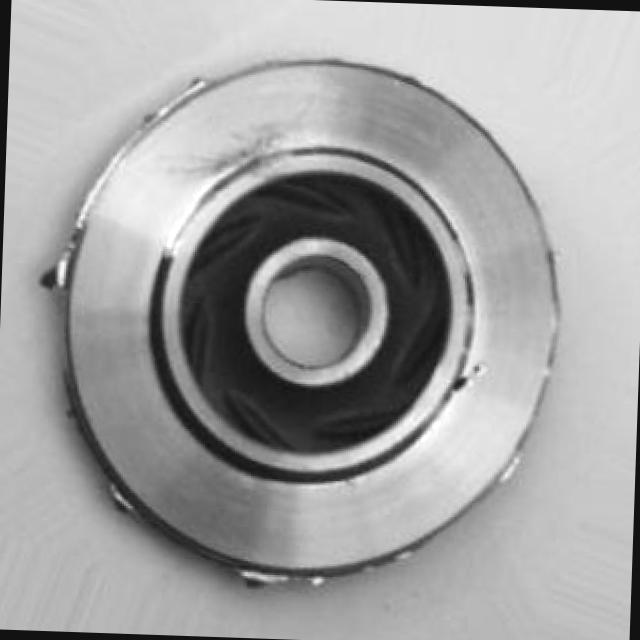Defect: (446, 366, 480, 400)
